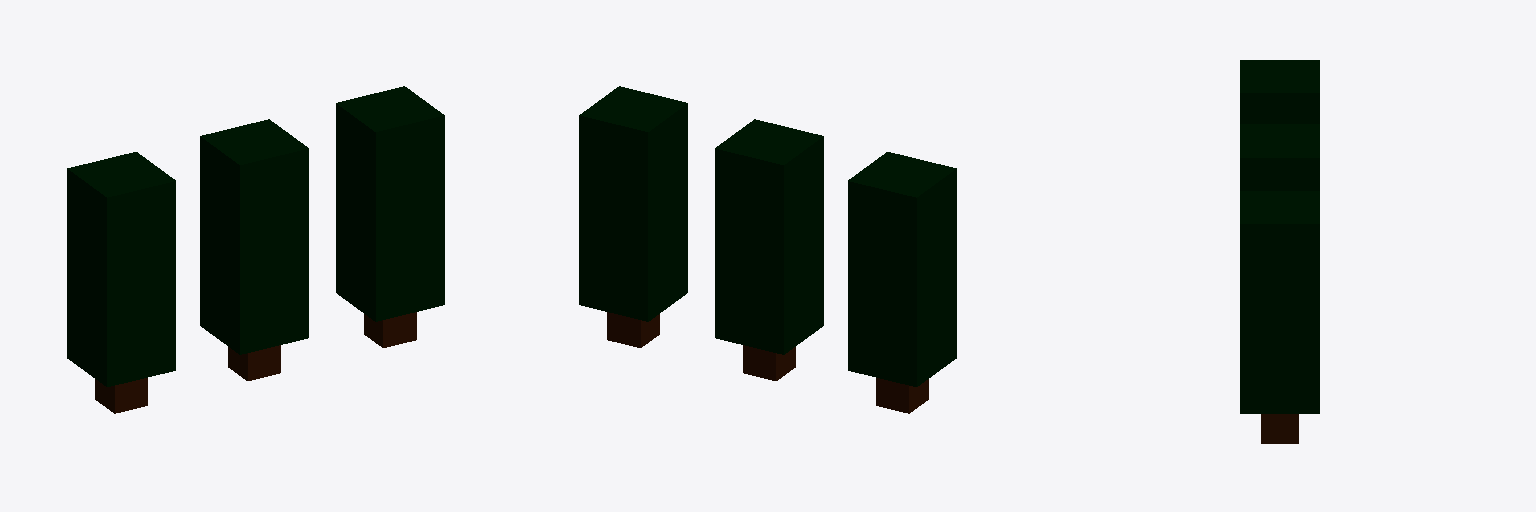
The model's file is alberi.obj.
3 renders of one model, left to right at view 1: azimuth 30°, elevation 25°; view 2: azimuth 150°, elevation 25°; view 3: azimuth 270°, elevation 25°, orthographic.
Visible parts, largest first — view 1: Cubo.012_Cubo.013; view 2: Cubo.012_Cubo.013; view 3: Cubo.012_Cubo.013.
Boxes of the visible parts, x1=… form: Cubo.012_Cubo.013: x1=67, y1=86, x2=444, y2=413; Cubo.012_Cubo.013: x1=579, y1=86, x2=956, y2=413; Cubo.012_Cubo.013: x1=1240, y1=60, x2=1319, y2=443.
Bounding box in the file's own units: 4.72 × 3.05 × 0.9695.